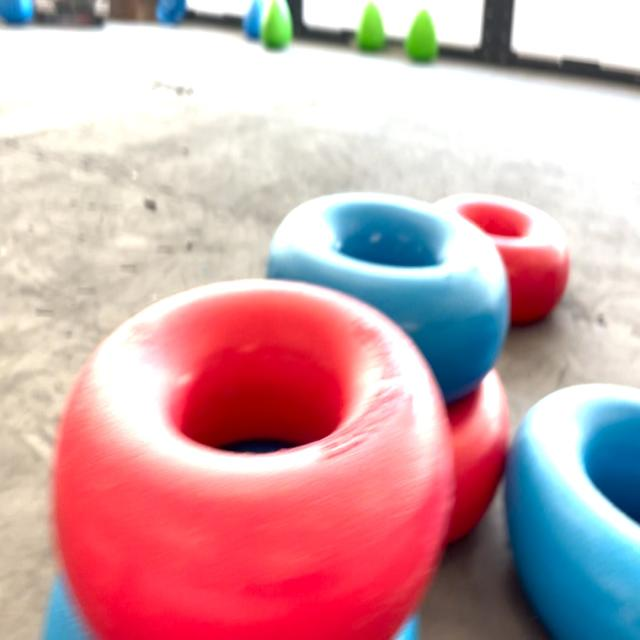Blue-Ring: (266, 193, 510, 402), (506, 384, 640, 638)
Red-Ring: (51, 280, 454, 638), (440, 193, 570, 324), (448, 369, 510, 541)
